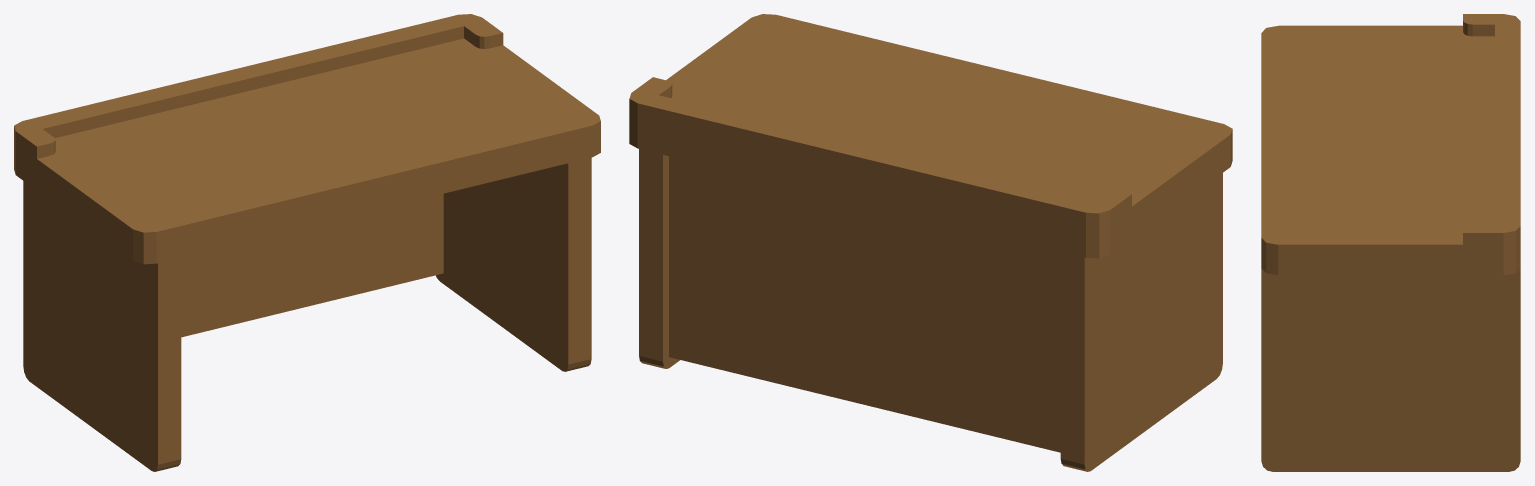
Rendered from Desk_FINAL.fbx.
3 views of the same model, side by side, from view 1: azimuth 30°, elevation 25°; view 2: azimuth 150°, elevation 25°; view 3: azimuth 270°, elevation 25° (orthographic). The views are drawn at different scales.
Parts seen in each view (by area): view 1: Cube; view 2: Cube; view 3: Cube.
Boxes of the visible parts, x1=… form: Cube: x1=14, y1=14, x2=600, y2=471; Cube: x1=629, y1=14, x2=1232, y2=471; Cube: x1=1261, y1=14, x2=1520, y2=471.
Size of the model in its own units: 200 by 105 by 100.
